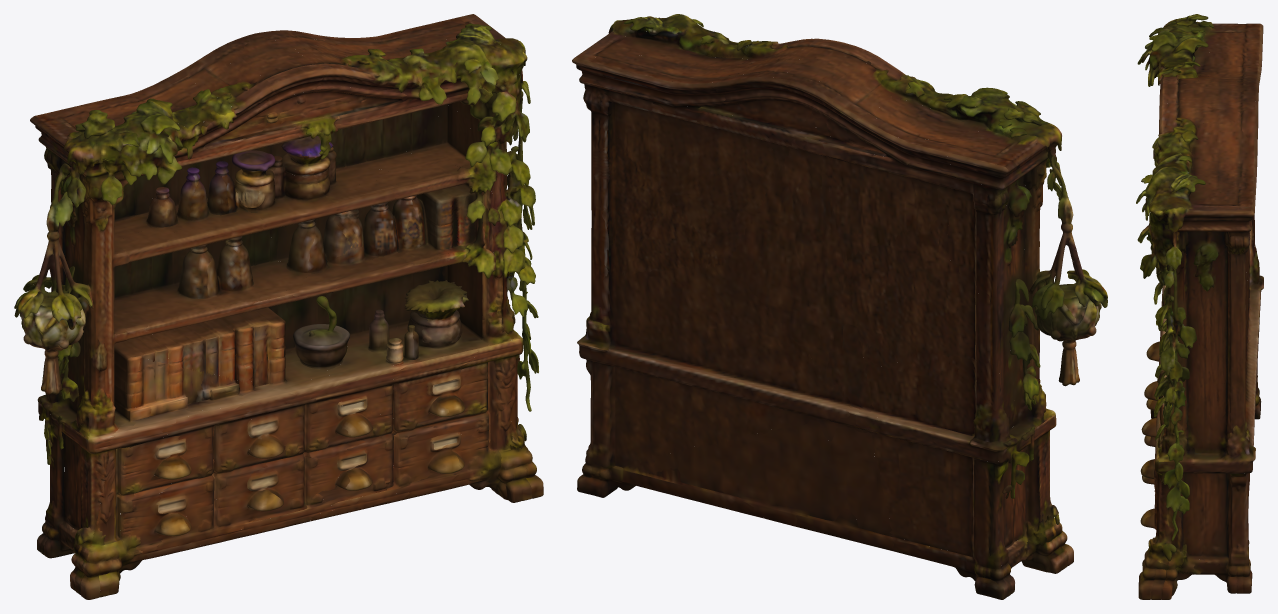
File: CabinetA_Optimized.glb
3 renders of one model, left to right at view 1: azimuth 30°, elevation 25°; view 2: azimuth 150°, elevation 25°; view 3: azimuth 270°, elevation 25°, orthographic. The views are drawn at different scales.
Visible parts, largest first — view 1: CabinetA_Optimized; view 2: CabinetA_Optimized; view 3: CabinetA_Optimized.
Part boxes in pixels (x1,y1,x2,y2): CabinetA_Optimized: [14, 14, 543, 599]; CabinetA_Optimized: [572, 14, 1107, 599]; CabinetA_Optimized: [1136, 14, 1263, 599].
Size of the model in its own units: 2.23 by 1.94 by 0.5433.
1 material, 1 textured.
